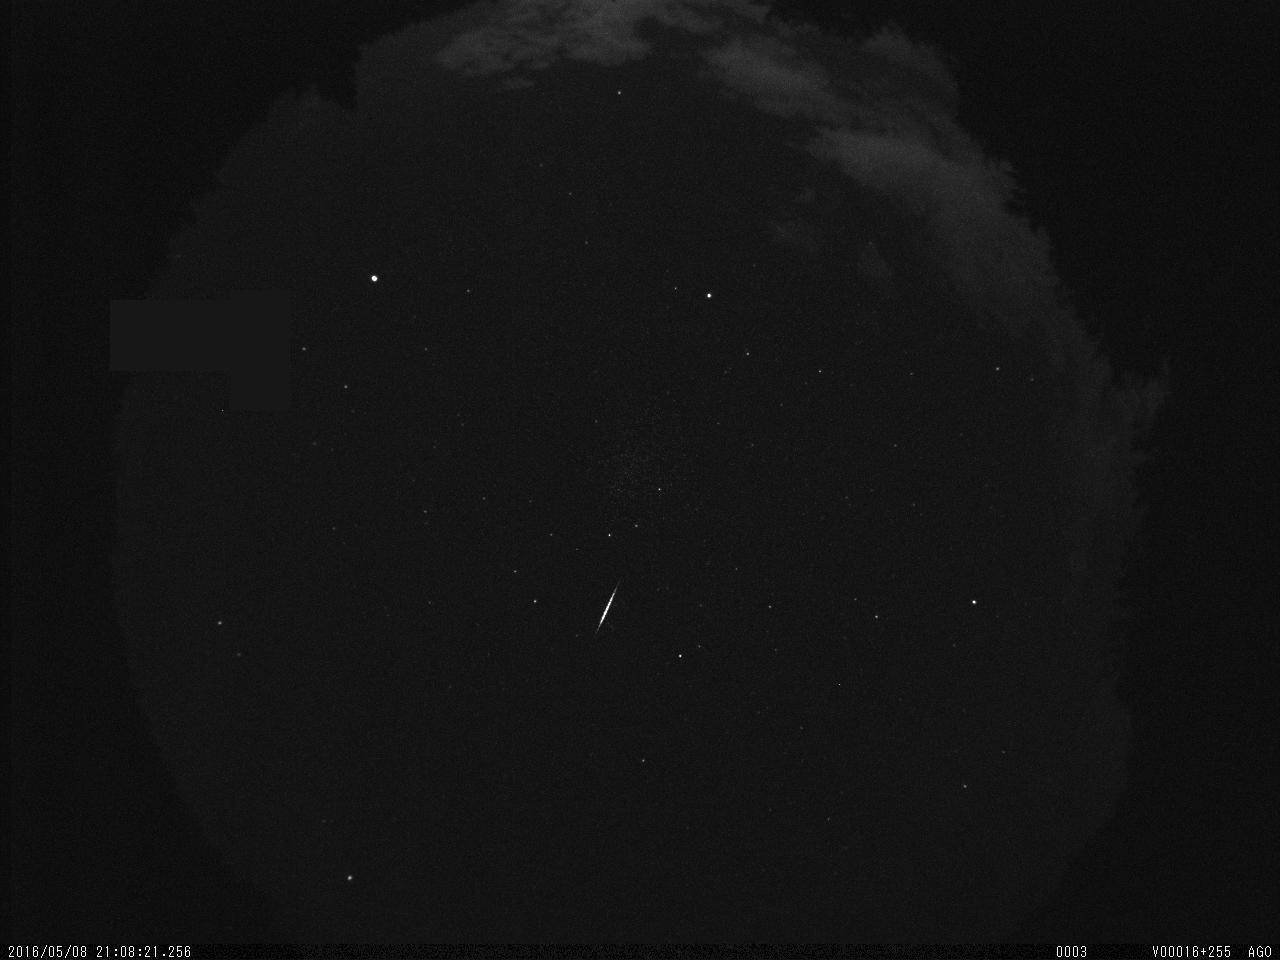meteor: (583, 585, 642, 638)
